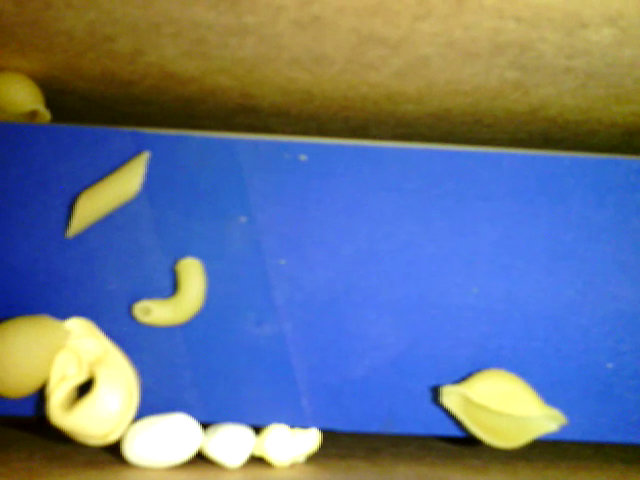elbow: (128, 254, 210, 329)
penne: (64, 146, 153, 242)
shell: (435, 364, 570, 453), (1, 318, 72, 403), (3, 70, 53, 129)
tortellini: (44, 313, 140, 450)
